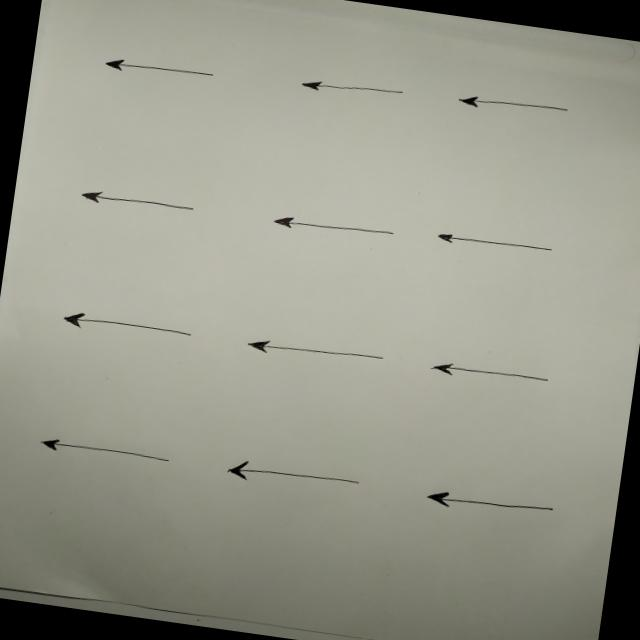arrow_line_left: (208, 450, 379, 502), (407, 478, 573, 528), (257, 204, 408, 252), (234, 329, 394, 374), (30, 429, 182, 475), (50, 302, 200, 348), (67, 179, 214, 225), (86, 44, 232, 90), (417, 222, 566, 266), (423, 353, 562, 396), (452, 87, 594, 125), (290, 70, 414, 112)
